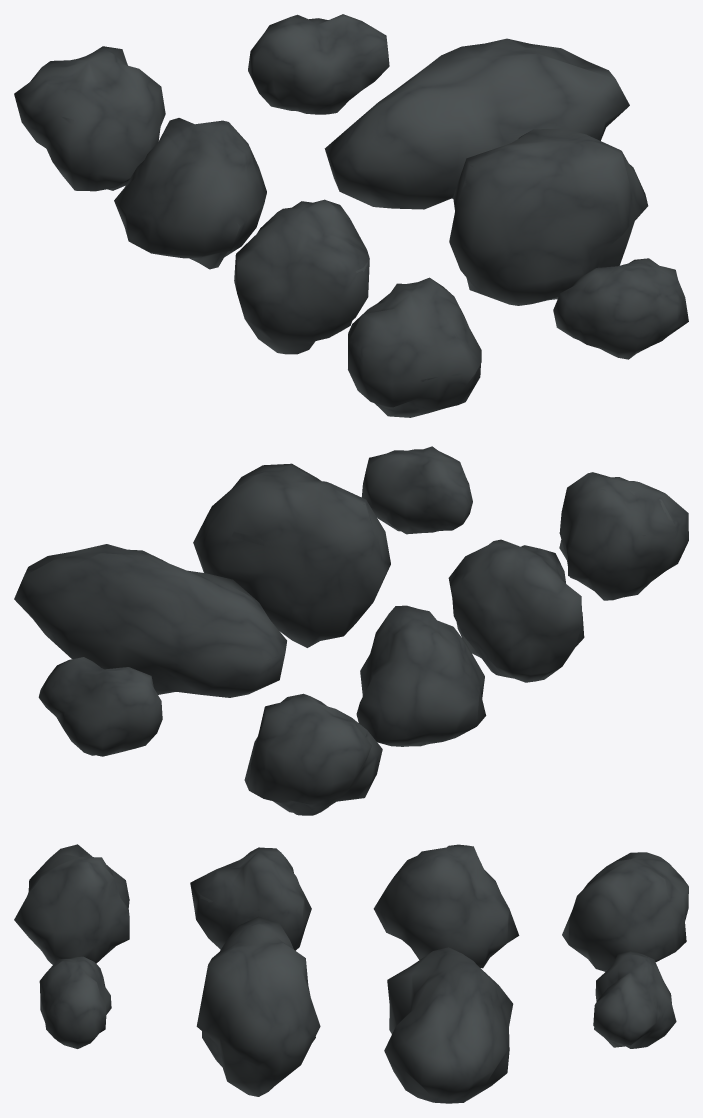
The model's file is Asteroids_setof8_01.fbx.
The picture shows the model from 3 angles, top to bottom: view 1: azimuth 30°, elevation 25°; view 2: azimuth 150°, elevation 25°; view 3: azimuth 270°, elevation 25°; orthographic projection. The views are drawn at different scales.
Parts seen in each view (by area): view 1: Asteroid.006, Asteroid.005, Asteroid.002, Asteroid.001, Asteroid.003, Asteroid, Asteroid.007, Asteroid.004; view 2: Asteroid.006, Asteroid.005, Asteroid.001, Asteroid.002, Asteroid, Asteroid.003, Asteroid.007, Asteroid.004; view 3: Asteroid.006, Asteroid.005, Asteroid.002, Asteroid.003, Asteroid, Asteroid.001, Asteroid.007, Asteroid.004.
Boxes of the visible parts, <box> form: Asteroid.006: <box>324,38,629,209</box>; Asteroid.005: <box>449,128,648,305</box>; Asteroid.002: <box>114,118,266,269</box>; Asteroid.001: <box>234,199,369,354</box>; Asteroid.003: <box>14,46,165,191</box>; Asteroid: <box>348,277,481,417</box>; Asteroid.007: <box>248,14,389,114</box>; Asteroid.004: <box>553,258,688,359</box>; Asteroid.006: <box>14,544,286,697</box>; Asteroid.005: <box>193,463,390,647</box>; Asteroid.001: <box>448,539,584,682</box>; Asteroid.002: <box>356,605,486,746</box>; Asteroid: <box>559,472,688,600</box>; Asteroid.003: <box>244,693,382,815</box>; Asteroid.007: <box>38,657,162,756</box>; Asteroid.004: <box>361,446,472,534</box>; Asteroid.006: <box>384,947,513,1103</box>; Asteroid.005: <box>196,916,320,1096</box>; Asteroid.002: <box>373,844,519,968</box>; Asteroid.003: <box>562,852,688,971</box>; Asteroid: <box>14,844,129,964</box>; Asteroid.001: <box>190,847,311,950</box>; Asteroid.007: <box>593,950,676,1048</box>; Asteroid.004: <box>39,956,111,1048</box>.
Size of the model in its own units: 60.62 by 19.74 by 84.61.
